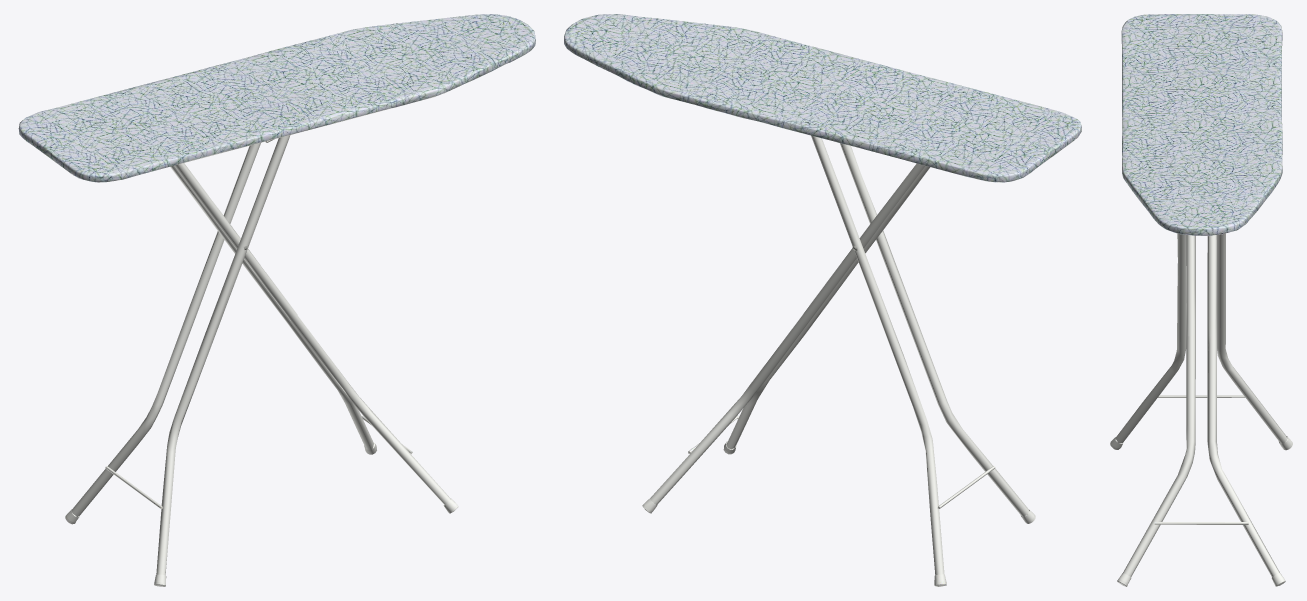
Rendered from ruter_deska_do_prasowania_60471610.glb.
The picture shows the model from 3 angles, left to right: view 1: azimuth 30°, elevation 25°; view 2: azimuth 150°, elevation 25°; view 3: azimuth 270°, elevation 25°; orthographic projection. The views are drawn at different scales.
Parts seen in each view (by area): view 1: ruter_deska_do_prasowania_60471610; view 2: ruter_deska_do_prasowania_60471610; view 3: ruter_deska_do_prasowania_60471610.
Boxes of the visible parts, x1,y1,x2,y2 form: ruter_deska_do_prasowania_60471610: (18,14,535,586); ruter_deska_do_prasowania_60471610: (564,14,1081,586); ruter_deska_do_prasowania_60471610: (1110,14,1292,586).
Bounding box in the file's own units: 1.08 × 0.9235 × 0.3704.
Materials: 2 (2 with a texture image).
